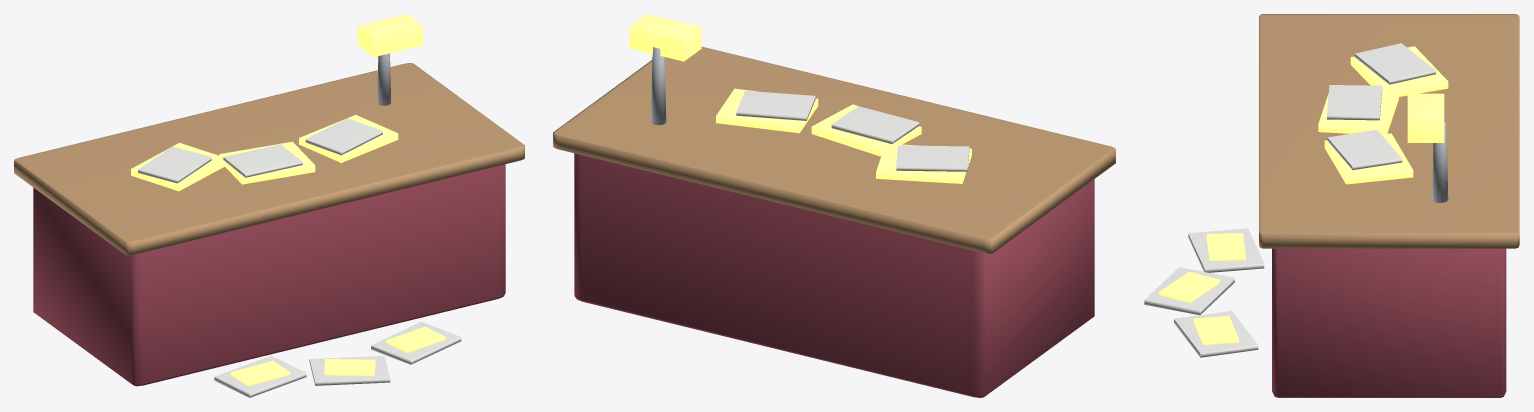
The model's file is SM_School_PrincipalDeskDocs.fbx.
3 views of the same model, side by side, from view 1: azimuth 30°, elevation 25°; view 2: azimuth 150°, elevation 25°; view 3: azimuth 270°, elevation 25° (orthographic). The views are drawn at different scales.
Parts seen in each view (by area): view 1: SM_School_PrincipalDeskDocs; view 2: SM_School_PrincipalDeskDocs; view 3: SM_School_PrincipalDeskDocs.
Boxes of the visible parts, x1,y1,x2,y2 form: SM_School_PrincipalDeskDocs: (14,14,524,397); SM_School_PrincipalDeskDocs: (553,14,1115,397); SM_School_PrincipalDeskDocs: (1144,14,1519,397).
Bounding box in the file's own units: 2.56 × 1.44 × 1.84.
